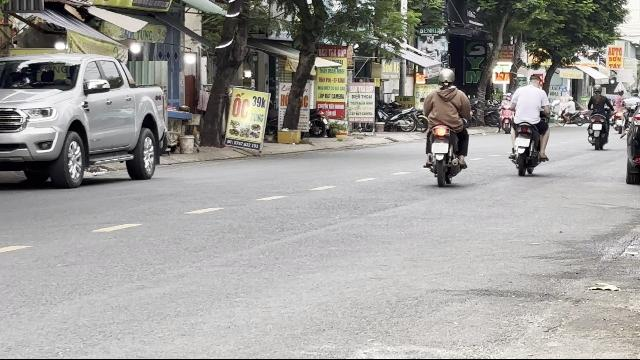helmet: (437, 68, 455, 88)
licenseplate: (432, 143, 448, 153)
motorcyclist: (420, 68, 472, 186)
